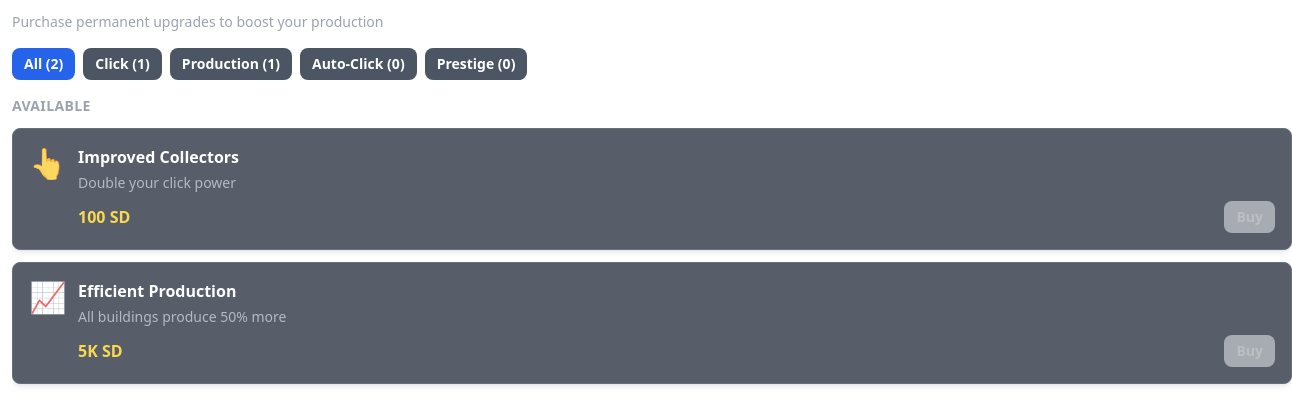
Test: UpgradesPanel › should switch tabs when clicked
The width and height of the screenshot is (1292, 404).
Expected: the heading "Improved Collectors" is shown, [78,145,239,169]
Expected: the heading "Efficient Production" is shown, [78,279,236,303]
# Switch to "Click" tab
Step 1. Click the button with aria-label "Click upgrades tab" → (123, 64), box [83,48,162,80]
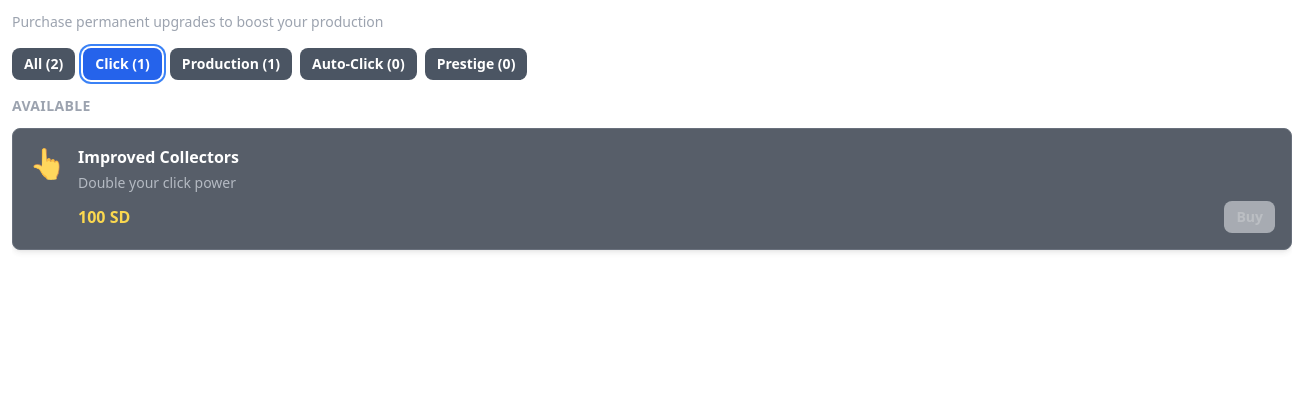
Expected: the heading "Improved Collectors" is shown, [78,145,239,169]
Expected: the heading "Efficient Production" is gone
# Switch to "Production" tab
Step 2. Click the button with aria-label "Production upgrades tab" → (231, 64), box [170,48,292,80]
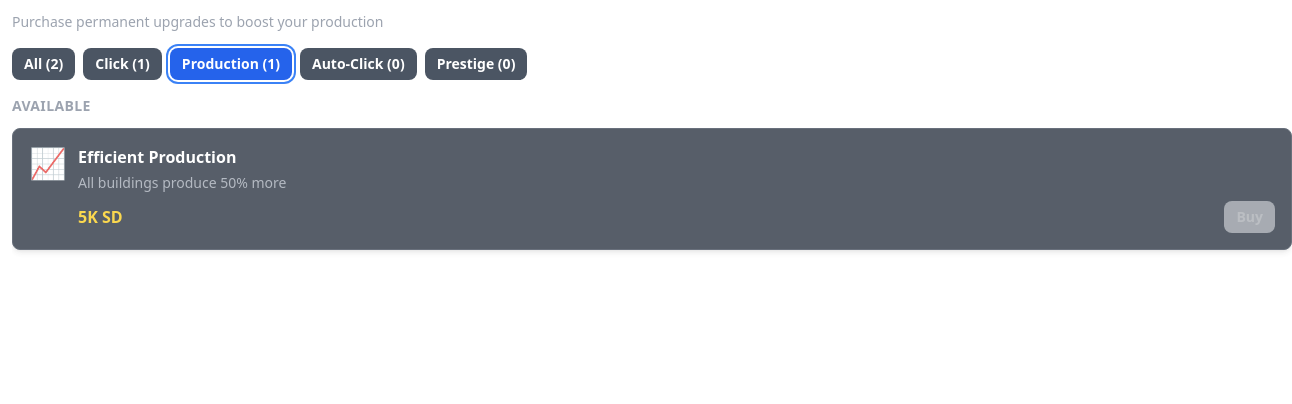
Expected: the heading "Improved Collectors" is gone
Expected: the heading "Efficient Production" is shown, [78,145,236,169]
